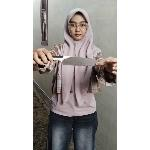Pisau: (34, 52, 104, 74)
